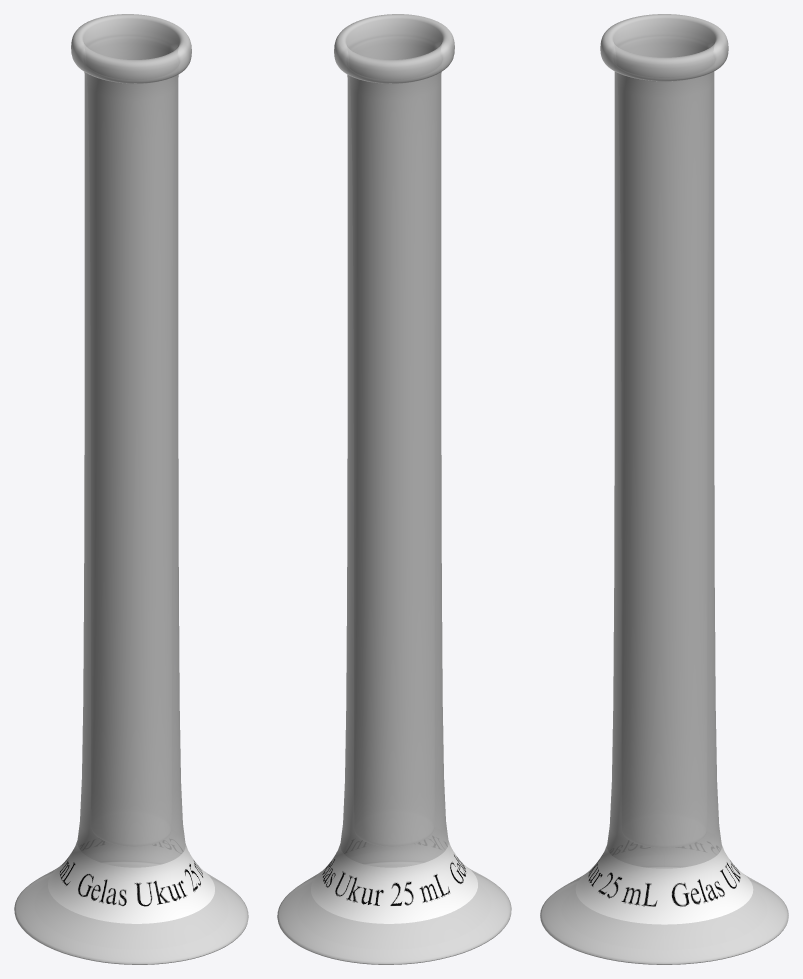
Rendered from Gelas Ukur 25mL.fbx.
3 views of the same model, side by side, from view 1: azimuth 30°, elevation 25°; view 2: azimuth 150°, elevation 25°; view 3: azimuth 270°, elevation 25° (orthographic).
Visible parts, largest first — view 1: botol_kaca_066; view 2: botol_kaca_066; view 3: botol_kaca_066.
Boxes of the visible parts, box(x1,y1,x2,y2) form: botol_kaca_066: box(14, 14, 248, 964); botol_kaca_066: box(277, 14, 511, 964); botol_kaca_066: box(540, 14, 788, 964).
Bounding box in the file's own units: 0.9048 × 3.81 × 0.9752.
Materials: 2 (1 with a texture image).
